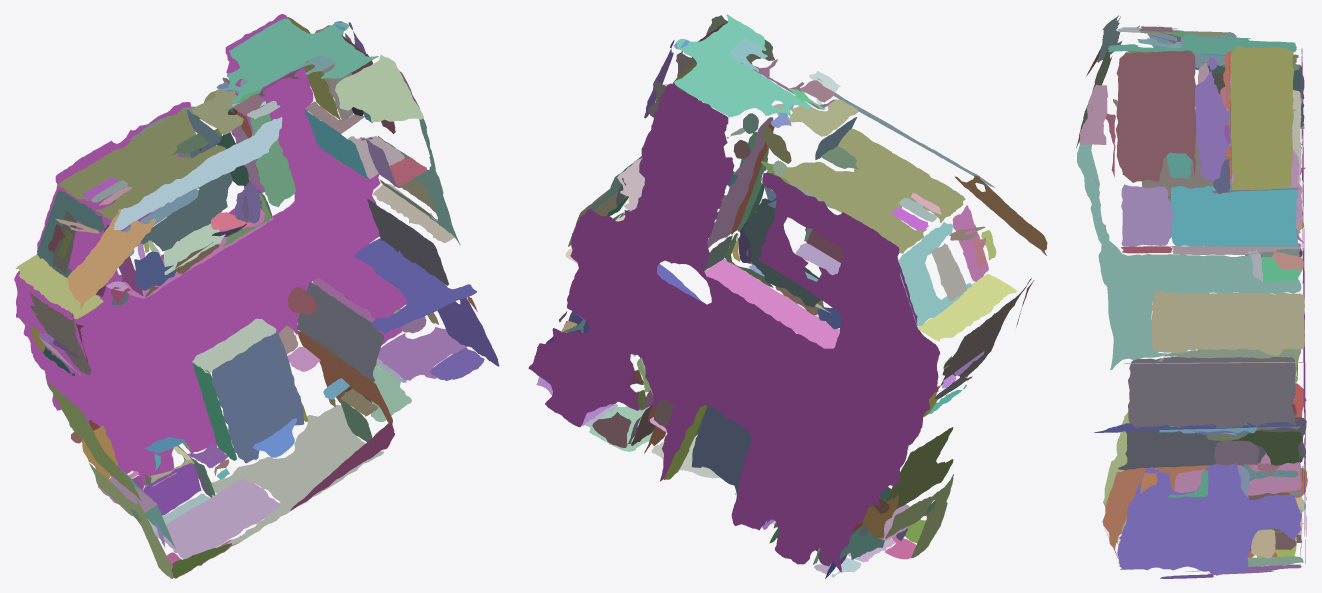
Rendered from pigs_scene0000.glb.
3 renders of one model, left to right at view 1: azimuth 30°, elevation 25°; view 2: azimuth 150°, elevation 25°; view 3: azimuth 270°, elevation 25°, orthographic. The views are drawn at different scales.
Visible parts, largest first — view 1: world; view 2: world; view 3: world.
Part boxes in pixels (box(x1,y1,x2,y2)): world: box(14, 14, 499, 578); world: box(528, 14, 1047, 578); world: box(1076, 15, 1307, 578).
Bounding box in the file's own units: 8.44 × 8.73 × 3.01.
